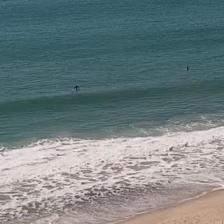surfer: (74, 85, 80, 89), (187, 66, 189, 71)
